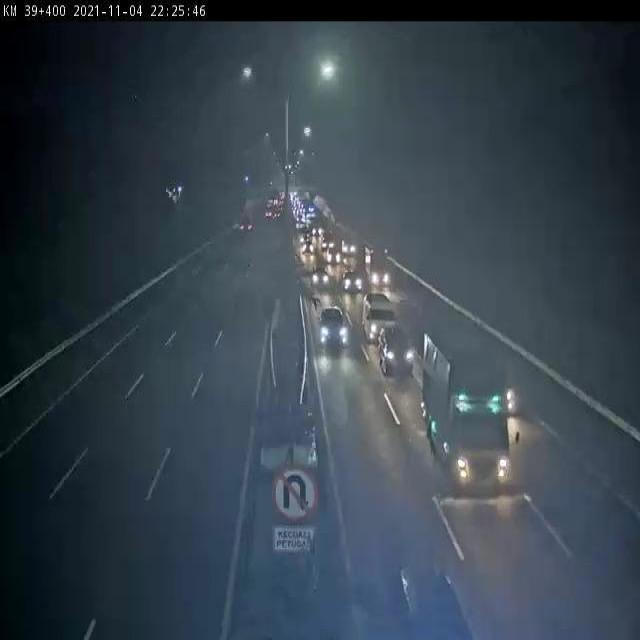car: (378, 320, 418, 387), (361, 283, 398, 344), (313, 304, 355, 357)
truck-m-: (422, 331, 514, 501)
truck-s-: (504, 367, 531, 428)
